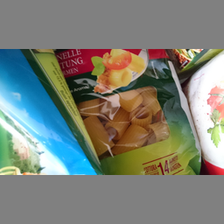pasta: (56, 49, 202, 175)
